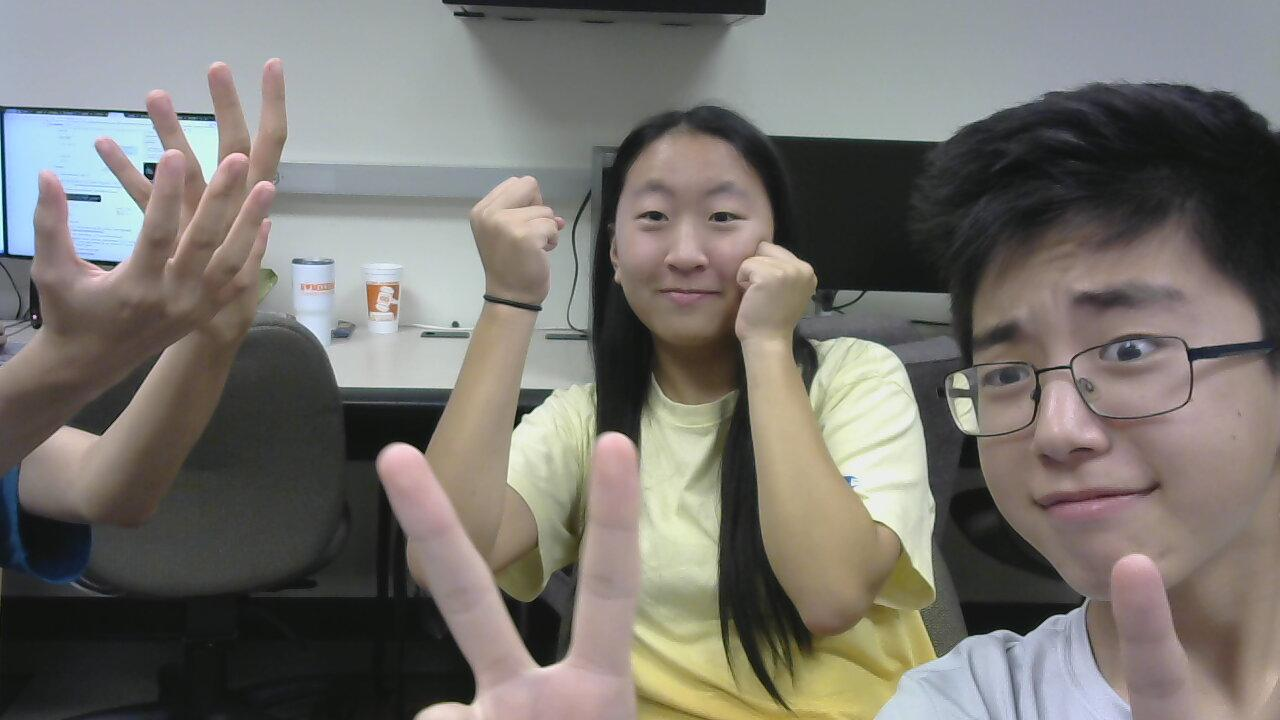fist: (721, 242, 817, 355), (461, 172, 555, 283)
hands: (24, 150, 272, 370), (92, 60, 289, 300)
peace: (382, 422, 664, 720)
